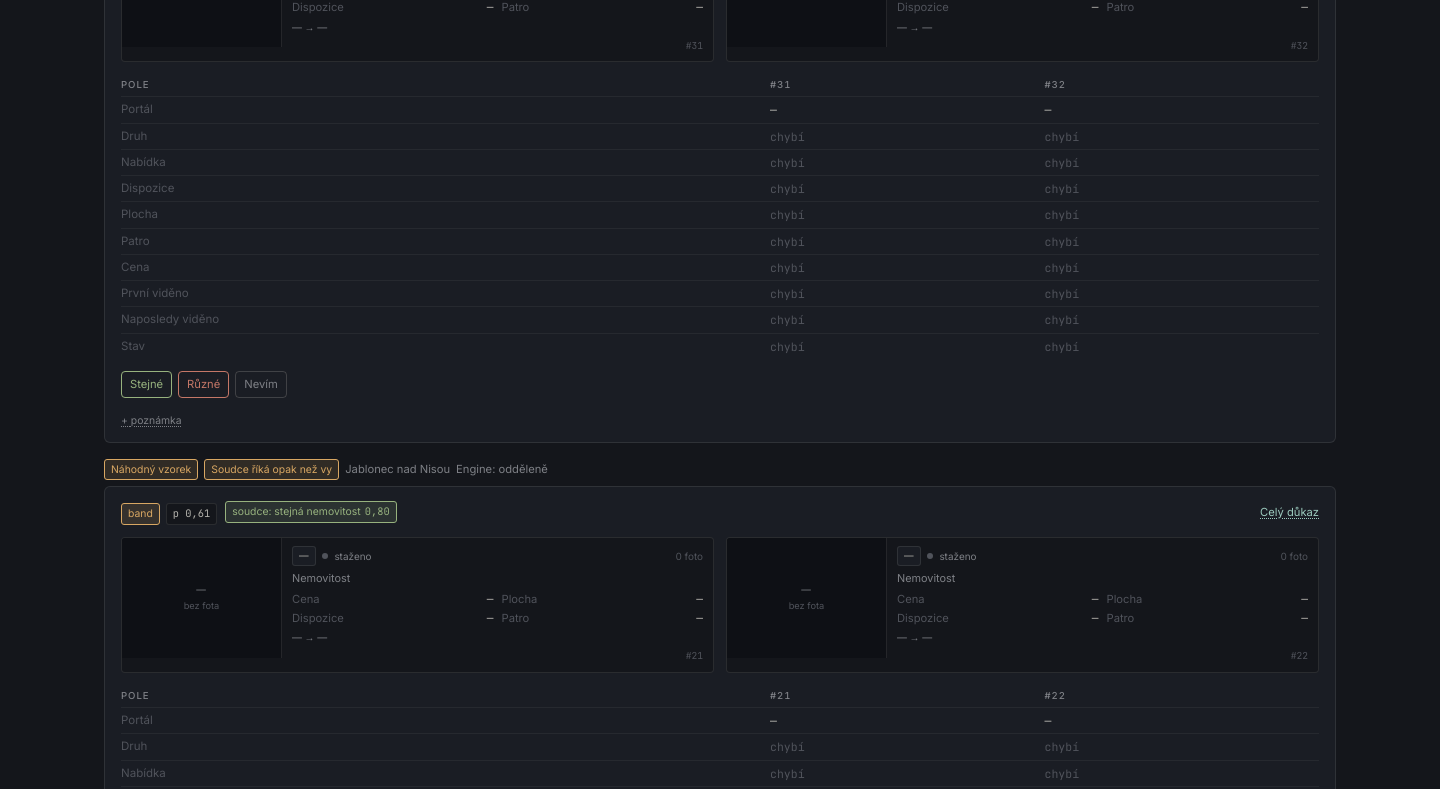
Test case: <AutodedupJudge> blind by default › hides the engine's view on an unruled row of the random sample
(page scrolled)
Expected: the text "Proč to engine nesloučil" is not shown
Expected: the text "Engine: odděleně" is shown, [456,461,548,478]
Click the button "Stejné" at (147, 384), box [121,371,172,398]
(page scrolled)
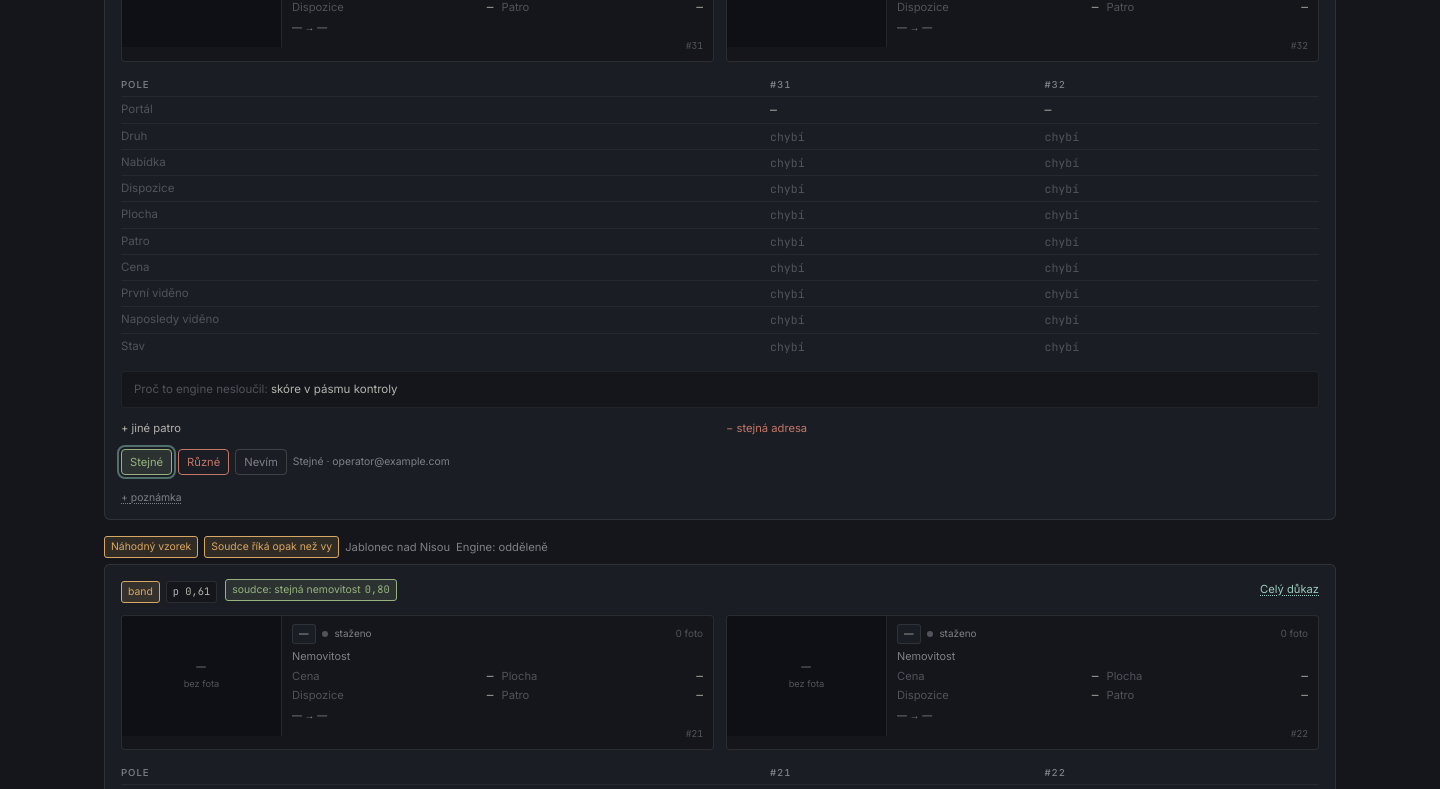
Expected: the text "Proč to engine nesloučil:" is shown, [134,382,271,396]
